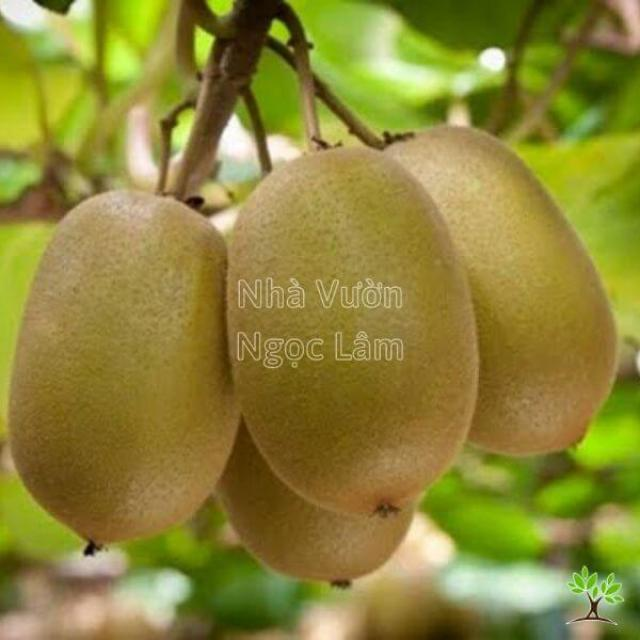kiwi: (331, 125, 618, 456), (226, 148, 479, 516), (9, 192, 253, 549), (216, 301, 417, 581)
